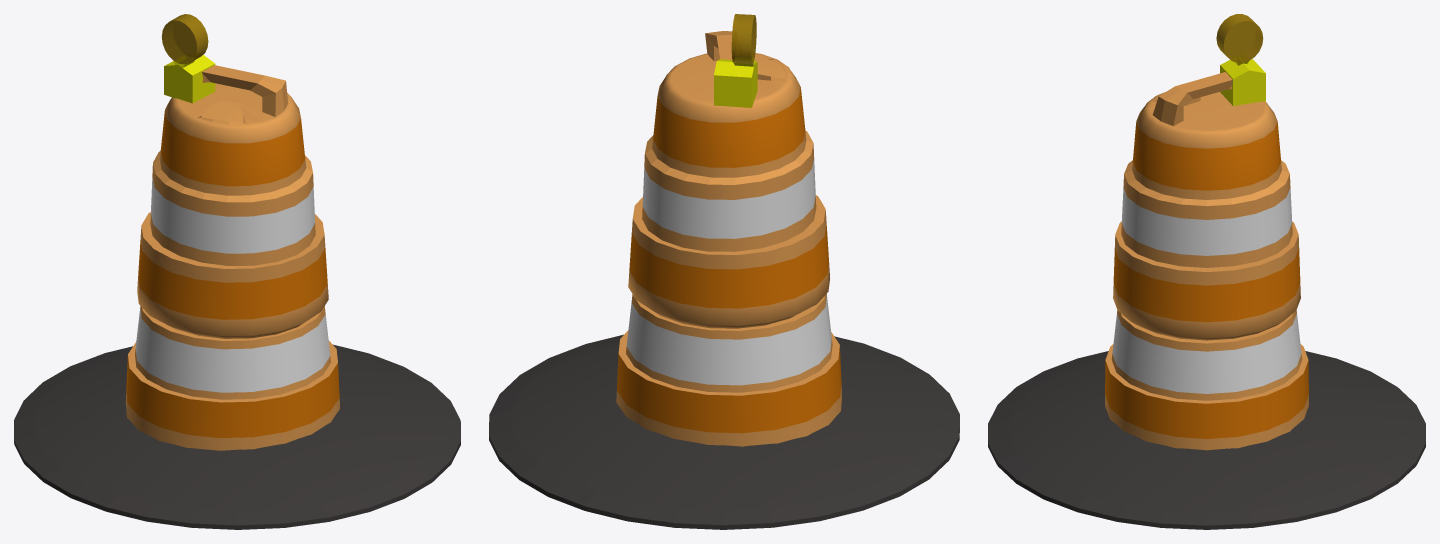
Rendered from TrafficBarrel.fbx.
3 renders of one model, left to right at view 1: azimuth 30°, elevation 25°; view 2: azimuth 150°, elevation 25°; view 3: azimuth 270°, elevation 25°, orthographic. The views are drawn at different scales.
Visible parts, largest first — view 1: TrafficBarrel; view 2: TrafficBarrel; view 3: TrafficBarrel.
Boxes of the visible parts, <box> form: TrafficBarrel: <box>14,14,460,529</box>; TrafficBarrel: <box>489,14,959,529</box>; TrafficBarrel: <box>988,14,1425,529</box>.
Bounding box in the file's own units: 31.68 × 32.33 × 31.71.
